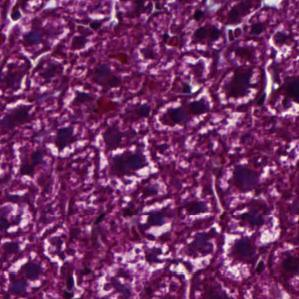inflammation: (98, 145, 158, 188), (3, 253, 54, 299), (216, 62, 263, 109), (172, 226, 222, 268)
